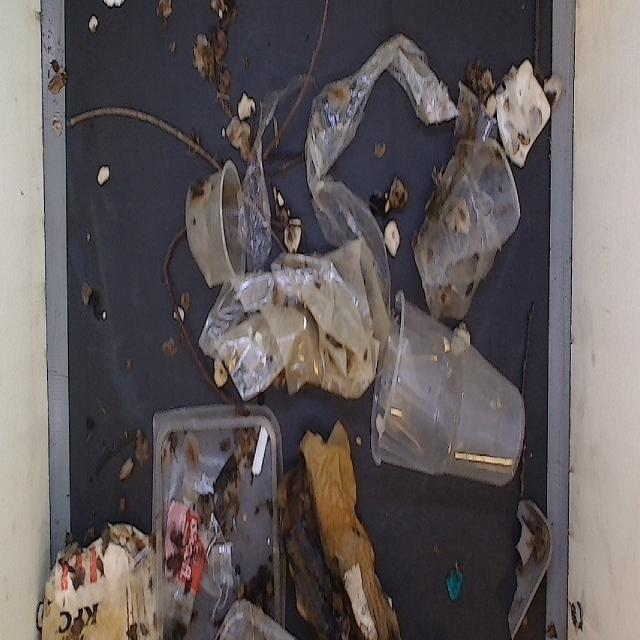food_packaging: (145, 400, 287, 640), (284, 414, 391, 640), (43, 540, 157, 640)
plastic_cups: (366, 273, 539, 492), (430, 68, 516, 314), (179, 154, 251, 293)
plastic_films: (294, 15, 452, 283), (211, 262, 401, 398)
styrofoam: (381, 208, 403, 260)
undef_hard_plastic: (502, 490, 558, 640), (446, 563, 470, 608)
